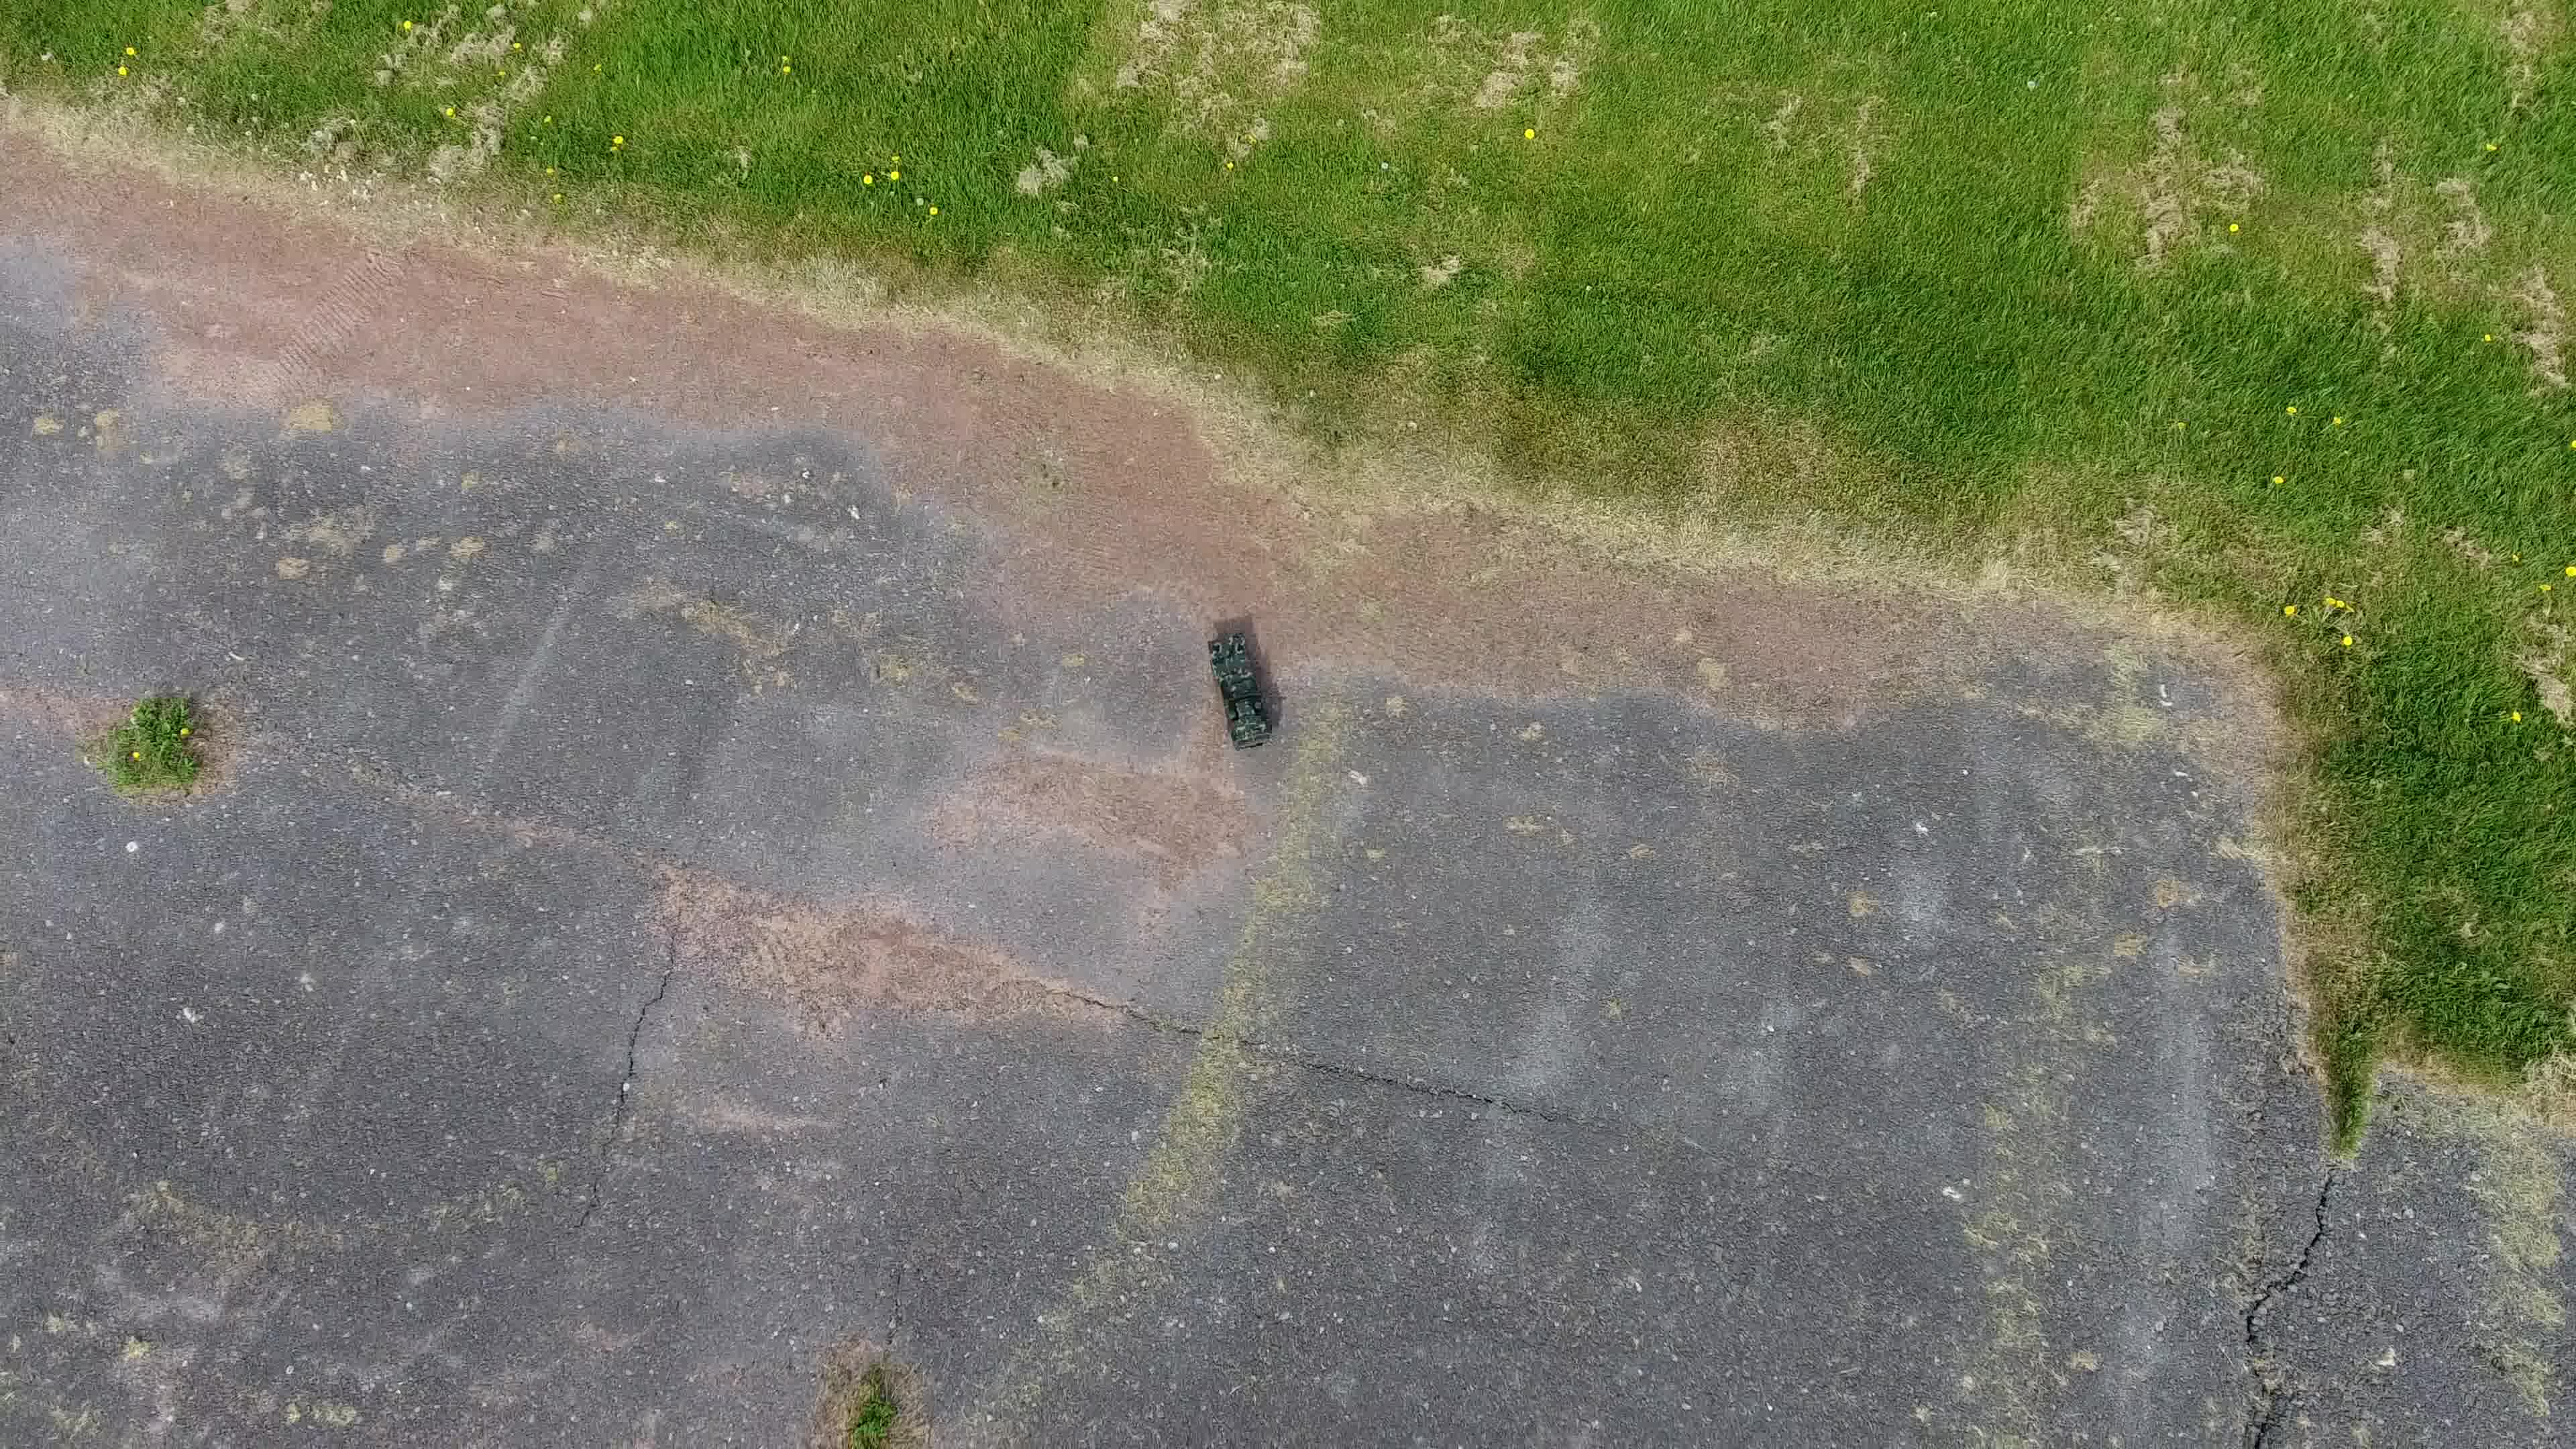transporter9_camo: (1205, 630, 1279, 752)
